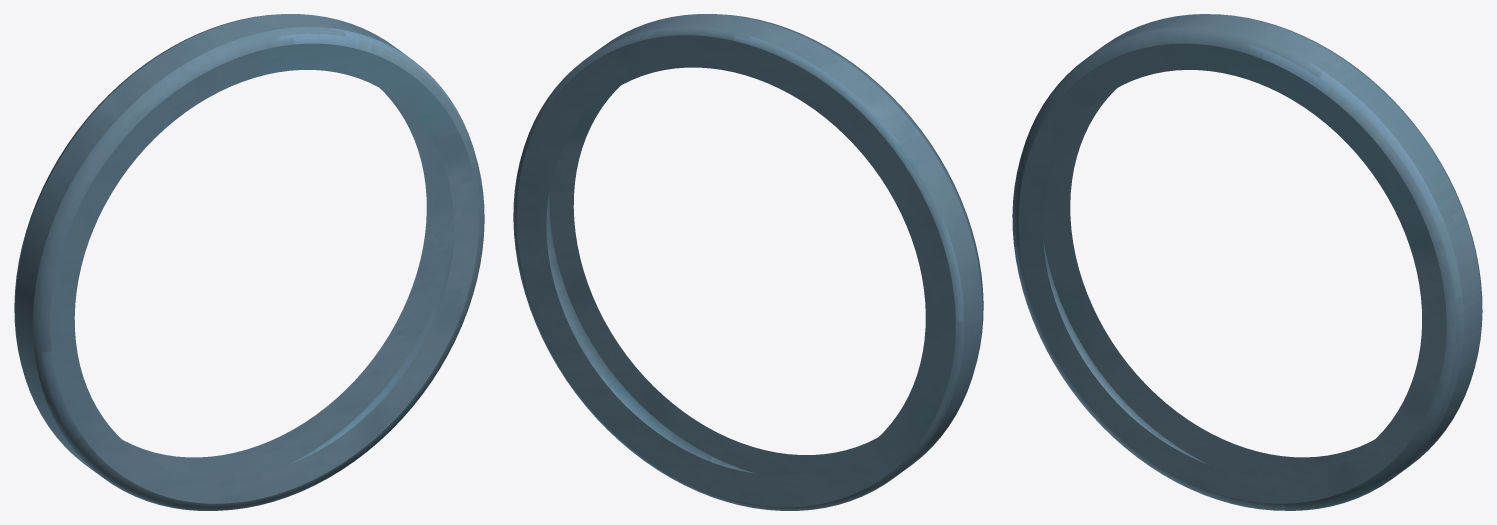
Rendered from original-4.obj.
3 renders of one model, left to right at view 1: azimuth 30°, elevation 25°; view 2: azimuth 150°, elevation 25°; view 3: azimuth 330°, elevation 25°, orthographic.
Parts seen in each view (by area): view 1: #ID22; view 2: #ID22; view 3: #ID22.
Part boxes in pixels (left/top/right/bottom): #ID22: left=14, top=14, right=484, bottom=510; #ID22: left=513, top=14, right=983, bottom=510; #ID22: left=1012, top=14, right=1482, bottom=510.
Size of the model in its own units: 0.6871 by 0.6871 by 0.0723.
